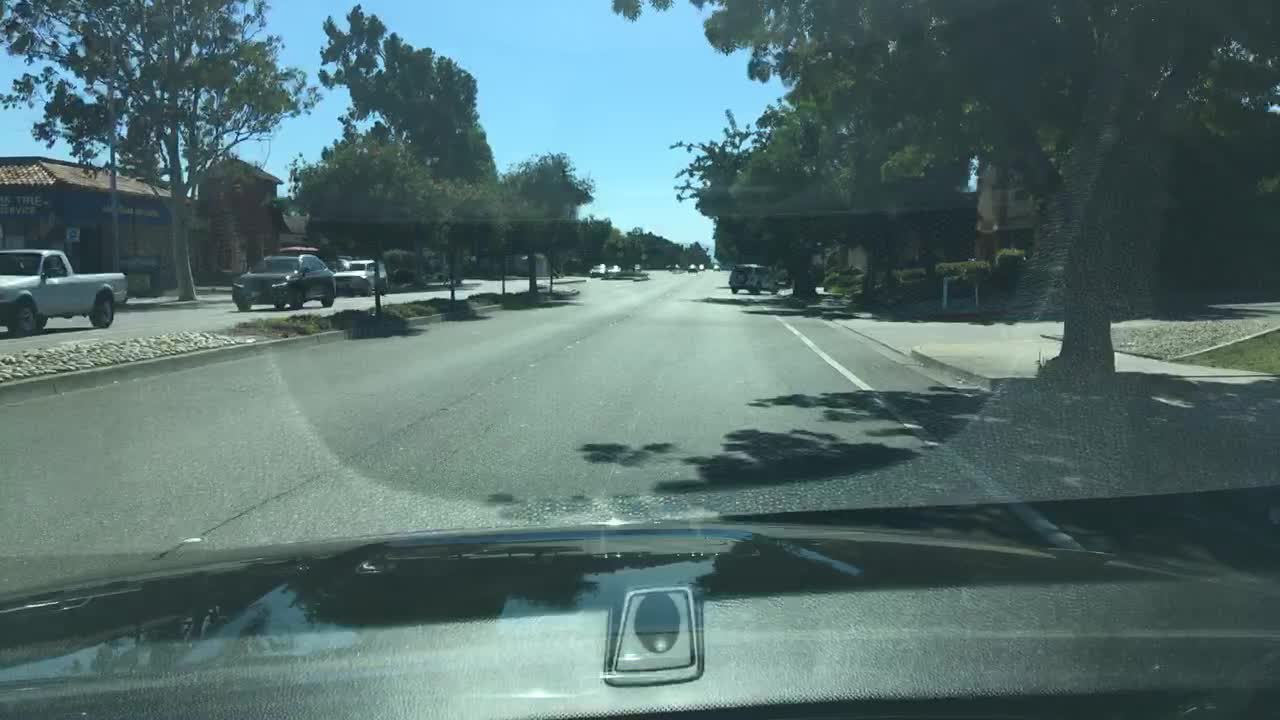car: (231, 253, 336, 310), (332, 259, 389, 296), (727, 262, 779, 295), (278, 244, 318, 256), (587, 263, 605, 277), (605, 264, 622, 274), (685, 262, 698, 274), (665, 262, 679, 271), (697, 263, 705, 271), (712, 263, 719, 271)
truck: (0, 248, 127, 335)
